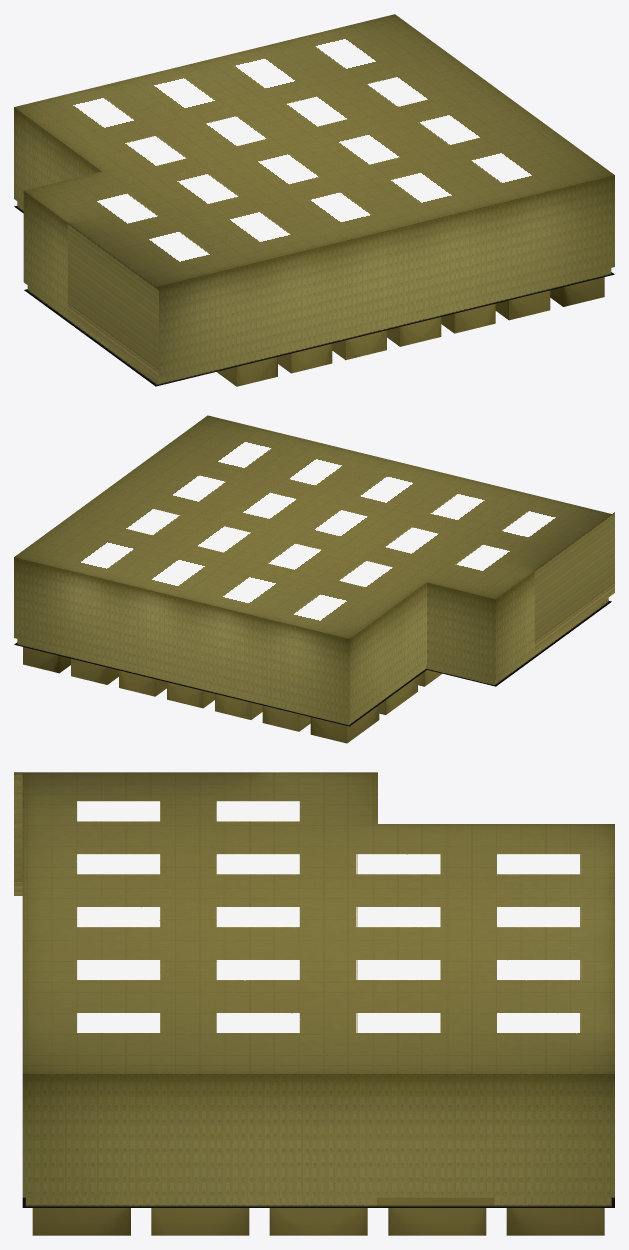
The model's file is level.glb.
3 views of the same model, one above another, from view 1: azimuth 30°, elevation 25°; view 2: azimuth 150°, elevation 25°; view 3: azimuth 270°, elevation 25° (orthographic). The views are drawn at different scales.
Parts seen in each view (by area): view 1: lvl; view 2: lvl; view 3: lvl.
Part boxes in pixels (box(x1,y1,x2,y2)): lvl: box(14, 14, 614, 386); lvl: box(14, 415, 614, 743); lvl: box(14, 772, 614, 1235).
Size of the model in its own units: 4.82 by 1.23 by 4.06.
3 materials, 1 textured.
